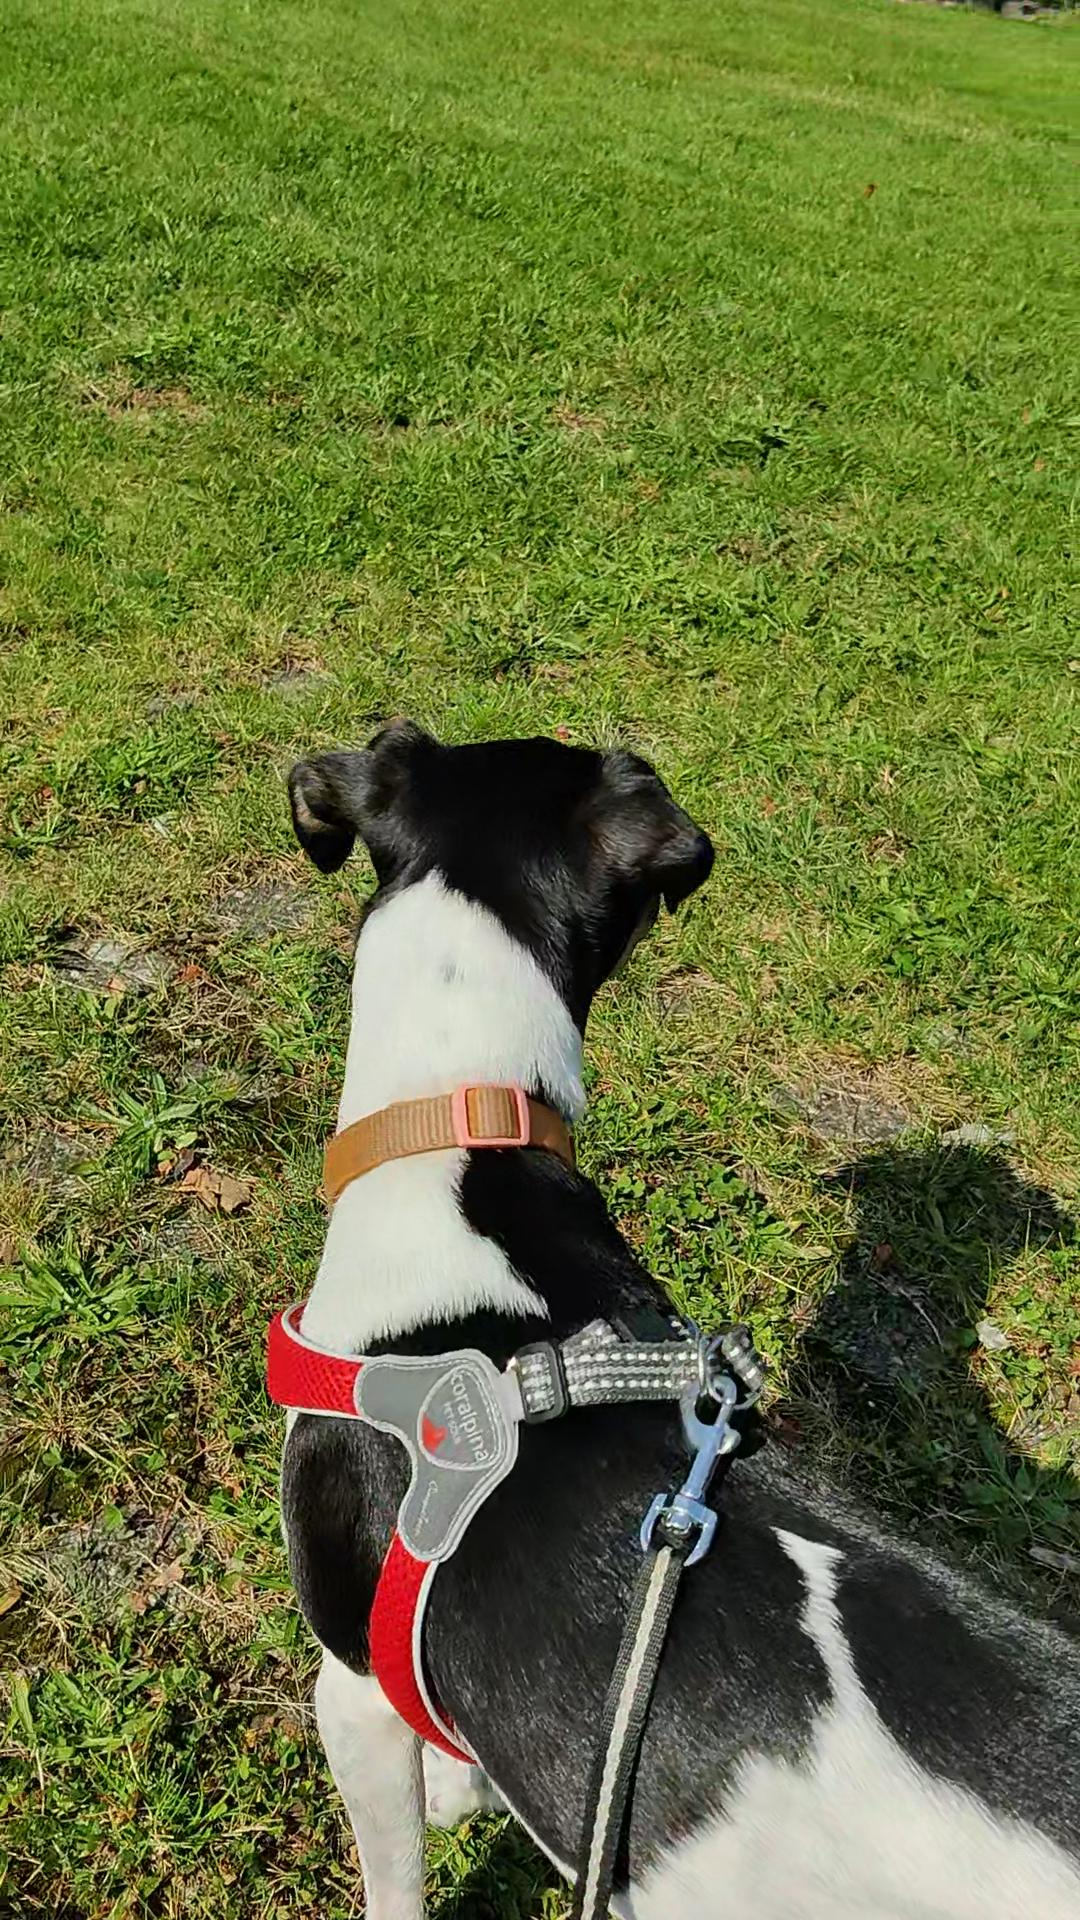Dog: (255, 705, 1079, 1919)
